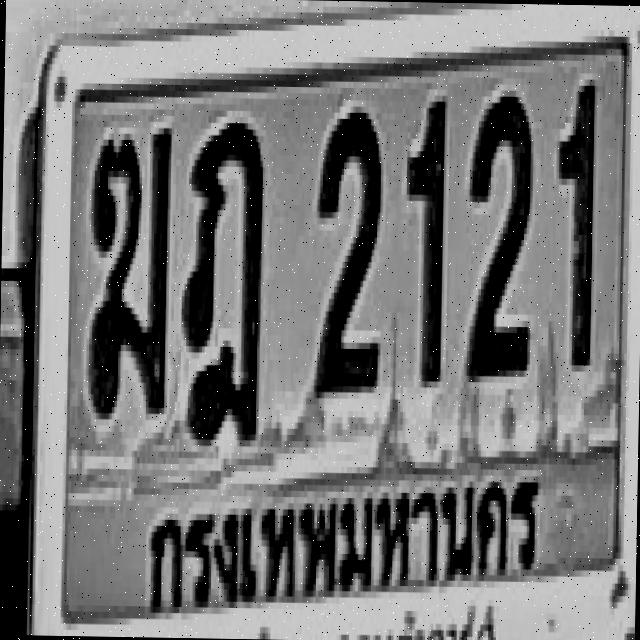1: (402, 95, 446, 388), (553, 82, 594, 368)
15KhorRaKhang: (88, 126, 172, 420)
2: (311, 105, 384, 398), (466, 90, 534, 376)
23DorChaDa: (180, 119, 264, 443)
Bangkok: (134, 466, 548, 616)
